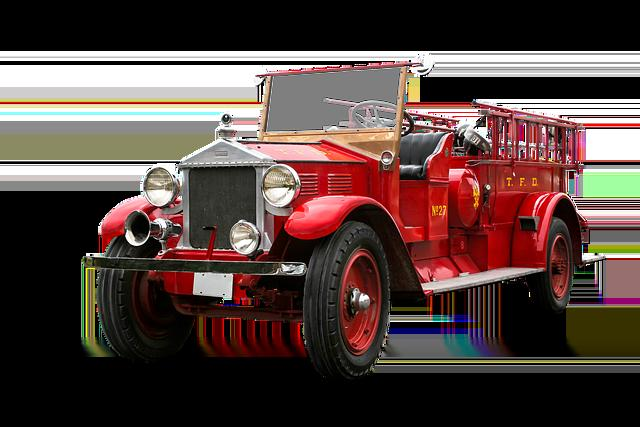Non_Gorille: (63, 49, 587, 384)
